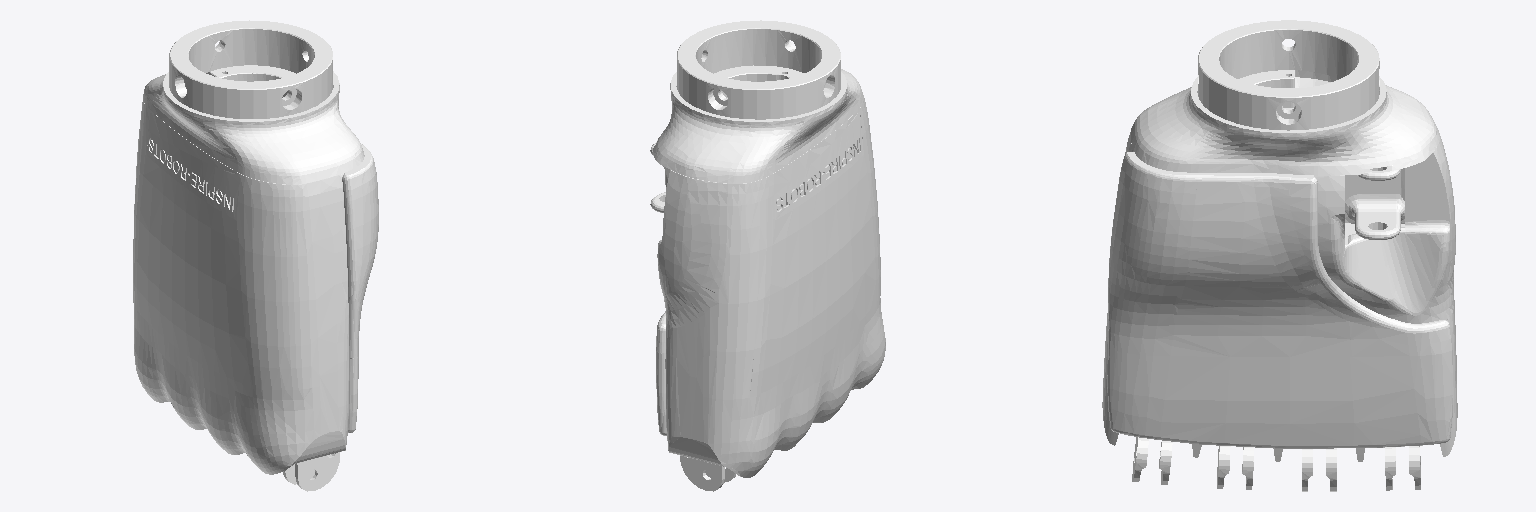
URDF robot description (inspire_hand_l):
<?xml version="1.0" encoding="utf-8"?>
<!-- This URDF was automatically created by SolidWorks to URDF Exporter! Originally created by [author] ([email redacted]) 
     Commit Version: 1.6.0-4-g7f85cfe  Build Version: 1.6.7995.38578
     For more information, please see http://wiki.ros.org/sw_urdf_exporter -->
<robot
  name="inspire_hand_l">
  
  <link name="world"/>
  <joint name="fixed" type="fixed">
  <origin
   xyz="0.5 0.5 0.001"
   rpy="3.14 0 -1.5707963" />
  <parent link="world"/>
  <child link="L_hand_base_link"/>
  </joint>
  
  <link
    name="L_hand_base_link">
    <inertial>
      <origin
        xyz="0 0 -0.05"
        rpy="0 0 0" />
      <mass
        value="0.14143" />
      <inertia
        ixx="7.7231E-05"
        ixy="-1.5968E-06"
        ixz="1.7694E-06"
        iyy="8.3835E-05"
        iyz="2.1995E-06"
        izz="0.0001234" />
    </inertial>
    <visual>
      <origin
        xyz="-0.078182894 -0.248685517 0.103057589"
        rpy="0 0 3.1415926" />
      <geometry>
        <mesh
          filename="package://inspire_hand_l/meshes/L_hand_base_link.STL" />
      </geometry>
      <material
        name="">
        <color
          rgba="1 1 1 1" />
      </material>
    </visual>
    <collision>
      <origin
        xyz="-0.078182894 -0.248685517 0.103057589"
        rpy="0 0 3.1415926" />
      <geometry>
        <mesh
          filename="package://inspire_hand_l/meshes/L_hand_base_link.STL" />
      </geometry>
    </collision>
  </link>
  <link
    name="L_thumb_proximal_base">
    <inertial>
      <origin
        xyz="-0.0048772 0.00668 -0.00044071"
        rpy="0 0 0" />
      <mass
        value="0.0018869" />
      <inertia
        ixx="5.2003E-08"
        ixy="4.8353E-09"
        ixz="6.6444E-09"
        iyy="6.7434E-08"
        iyz="-5.4476E-10"
        izz="8.5319E-08" />
    </inertial>
    <visual>
      <origin
        xyz="0 0 0"
        rpy="0 0.3 0" />
      <geometry>
        <mesh
          filename="package://inspire_hand_l/meshes/L_thumb_proximal_base.STL" />
      </geometry>
      <material
        name="">
        <color
          rgba="1 1 1 1" />
      </material>
    </visual>
    <collision>
      <origin
        xyz="0 0 0"
        rpy="0 0.3 0" />
      <geometry>
        <mesh
          filename="package://inspire_hand_l/meshes/L_thumb_proximal_base.STL" />
      </geometry>
    </collision>
  </link>
  <joint
    name="L_thumb_MCP_joint1"
    type="revolute">
    <origin
      xyz="0.020450106 -0.016955517 -0.055202411"
      rpy="-1.5708 0 2.9722026" />
    <parent
      link="L_hand_base_link" />
    <child
      link="L_thumb_proximal_base" />
    <axis
      xyz="0 1 0" />
    <limit
      lower="0"
      upper="1.1"
      effort="50"
      velocity="1" />
  </joint>
  <link
    name="L_thumb_proximal">
    <inertial>
      <origin
        xyz="-3.8578E-05 0.025335 0.0016982"
        rpy="0 0 0" />
      <mass
        value="0.0066101" />
      <inertia
        ixx="2.787E-06"
        ixy="1.3042E-10"
        ixz="1.3413E-09"
        iyy="8.9435E-07"
        iyz="2.1426E-07"
        izz="2.4105E-06" />
    </inertial>
    <visual>
      <origin
        xyz="0 0 0"
        rpy="0 0 0" />
      <geometry>
        <mesh
          filename="package://inspire_hand_l/meshes/L_thumb_proximal.STL" />
      </geometry>
      <material
        name="">
        <color
          rgba="1 1 1 1" />
      </material>
    </visual>
    <collision>
      <origin
        xyz="0 0 0"
        rpy="0 0 0" />
      <geometry>
        <mesh
          filename="package://inspire_hand_l/meshes/L_thumb_proximal.STL" />
      </geometry>
    </collision>
  </link>
  <joint
    name="L_thumb_MCP_joint2"
    type="revolute">
    <origin
      xyz="-0.0115 0.005 0.0034"
      rpy="0.5948037 -1.2708 0" />
    <parent
      link="L_thumb_proximal_base" />
    <child
      link="L_thumb_proximal" />
    <axis
      xyz="-1 0 0" />
    <limit
      lower="0"
      upper="0.5"
      effort="50"
      velocity="1" />
  </joint>
  <link
    name="L_thumb_intermediate">
    <inertial>
      <origin
        xyz="-1.7401E-07 0.0072516 0.0064286"
        rpy="0 0 0" />
      <mass
        value="0.0037844" />
      <inertia
        ixx="4.6532E-07"
        ixy="-9.1152E-13"
        ixz="-3.8682E-12"
        iyy="2.6856E-07"
        iyz="6.4144E-08"
        izz="4.252E-07" />
    </inertial>
    <visual>
      <origin
        xyz="0 0 0"
        rpy="0 0 0" />
      <geometry>
        <mesh
          filename="package://inspire_hand_l/meshes/L_thumb_intermediate.STL" />
      </geometry>
      <material
        name="">
        <color
          rgba="1 1 1 1" />
      </material>
    </visual>
    <collision>
      <origin
        xyz="0 0 0"
        rpy="0 0 0" />
      <geometry>
        <mesh
          filename="package://inspire_hand_l/meshes/L_thumb_intermediate.STL" />
      </geometry>
    </collision>
  </link>
  <joint
    name="L_thumb_PIP_joint"
    type="revolute">
    <origin
      xyz="0 0.055863 -0.0039241"
      rpy="0.038299 0 0" />
    <parent
      link="L_thumb_proximal" />
    <child
      link="L_thumb_intermediate" />
    <axis
      xyz="-1 0 0" />
    <limit
      lower="0"
      upper="1"
      effort="50"
      velocity="1" />
      <mimic 
        joint="L_thumb_MCP_joint2"
        multiplier="0.6"
        offset="0" />
  </joint>
  <link
    name="L_thumb_distal">
    <inertial>
      <origin
        xyz="-3.3076E-06 0.010511 0.00057861"
        rpy="0 0 0" />
      <mass
        value="0.003344" />
      <inertia
        ixx="2.0026E-07"
        ixy="-1.4157E-10"
        ixz="5.6213E-11"
        iyy="8.7108E-08"
        iyz="2.4414E-08"
        izz="1.8974E-07" />
    </inertial>
    <visual>
      <origin
        xyz="0 0 0"
        rpy="0 0 0" />
      <geometry>
        <mesh
          filename="package://inspire_hand_l/meshes/L_thumb_distal.STL" />
      </geometry>
      <material
        name="">
        <color
          rgba="1 1 1 1" />
      </material>
    </visual>
    <collision>
      <origin
        xyz="0 0 0"
        rpy="0 0 0" />
      <geometry>
        <mesh
          filename="package://inspire_hand_l/meshes/L_thumb_distal.STL" />
      </geometry>
    </collision>
  </link>
  <joint
    name="L_thumb_DIP_joint"
    type="revolute">
    <origin
      xyz="0 0.022558 0.0020717"
      rpy="0.011642 0 0" />
    <parent
      link="L_thumb_intermediate" />
    <child
      link="L_thumb_distal" />
    <axis
      xyz="-1 0 0" />
    <limit
      lower="0"
      upper="1.2"
      effort="50"
      velocity="1" />
      <mimic 
        joint="L_thumb_MCP_joint2"
        multiplier="0.8"
        offset="0" />
  </joint>
  <link
    name="L_index_proximal">
    <inertial>
      <origin
        xyz="0.0080456 0.011884 -0.0016957"
        rpy="0 0 0" />
      <mass
        value="0.0042405" />
      <inertia
        ixx="6.9402E-07"
        ixy="1.4654E-11"
        ixz="-2.3231E-12"
        iyy="2.3041E-07"
        iyz="9.1802E-08"
        izz="6.4342E-07" />
    </inertial>
    <visual>
      <origin
        xyz="0 0 0"
        rpy="0 0 0" />
      <geometry>
        <mesh
          filename="package://inspire_hand_l/meshes/L_index_proximal.STL" />
      </geometry>
      <material
        name="">
        <color
          rgba="1 1 1 1" />
      </material>
    </visual>
    <collision>
      <origin
        xyz="0 0 0"
        rpy="0 0 0" />
      <geometry>
        <mesh
          filename="package://inspire_hand_l/meshes/L_index_proximal.STL" />
      </geometry>
    </collision>
  </link>
  <joint
    name="L_index_MCP_joint"
    type="revolute">
    <origin
      xyz="0.018231106 0.000284483 -0.137012411"
      rpy="-1.3208 -0.034907 0" />
    <parent
      link="L_hand_base_link" />
    <child
      link="L_index_proximal" />
    <axis
      xyz="-1 0 0" />
    <limit
      lower="0"
      upper="1.7"
      effort="50"
      velocity="1" />
  </joint>
  <link
    name="L_index_distal">
    <inertial>
      <origin
        xyz="0.0063917 0.01959 -0.0019564"
        rpy="0 0 0" />
      <mass
        value="0.0045682" />
      <inertia
        ixx="7.8176E-07"
        ixy="-7.7162E-14"
        ixz="3.9272E-13"
        iyy="1.5634E-07"
        iyz="2.1006E-07"
        izz="7.0081E-07" />
    </inertial>
    <visual>
      <origin
        xyz="0 0 0"
        rpy="0 0 0" />
      <geometry>
        <mesh
          filename="package://inspire_hand_l/meshes/L_index_distal.STL" />
      </geometry>
      <material
        name="">
        <color
          rgba="1 1 1 1" />
      </material>
    </visual>
    <collision>
      <origin
        xyz="0 0 0"
        rpy="0 0 0" />
      <geometry>
        <mesh
          filename="package://inspire_hand_l/meshes/L_index_distal.STL" />
      </geometry>
    </collision>
  </link>
  <joint
    name="L_index_DIP_joint"
    type="revolute">
    <origin
      xyz="0.0016538 0.030445 -0.010275"
      rpy="-0.039748 0 0" />
    <parent
      link="L_index_proximal" />
    <child
      link="L_index_distal" />
    <axis
      xyz="-1 0 0" />
    <limit
      lower="0"
      upper="1.6"
      effort="50"
      velocity="1" />
      <mimic 
        joint="L_index_MCP_joint"
        multiplier="1"
        offset="0" />
  </joint>
  <link
    name="L_middle_proximal">
    <inertial>
      <origin
        xyz="0.0080653 0.011884 -0.0016957"
        rpy="0 0 0" />
      <mass
        value="0.0042405" />
      <inertia
        ixx="6.9402E-07"
        ixy="1.4338E-11"
        ixz="-2.3917E-12"
        iyy="2.3041E-07"
        iyz="9.1802E-08"
        izz="6.4342E-07" />
    </inertial>
    <visual>
      <origin
        xyz="0 0 0"
        rpy="0 0 0" />
      <geometry>
        <mesh
          filename="package://inspire_hand_l/meshes/L_middle_proximal.STL" />
      </geometry>
      <material
        name="">
        <color
          rgba="1 1 1 1" />
      </material>
    </visual>
    <collision>
      <origin
        xyz="0 0 0"
        rpy="0 0 0" />
      <geometry>
        <mesh
          filename="package://inspire_hand_l/meshes/L_middle_proximal.STL" />
      </geometry>
    </collision>
  </link>
  <joint
    name="L_middle_MCP_joint"
    type="revolute">
    <origin
      xyz="-0.001114894 0.000284483 -0.137012411"
      rpy="-1.3208 0 0" />
    <parent
      link="L_hand_base_link" />
    <child
      link="L_middle_proximal" />
    <axis
      xyz="-1 0 0" />
    <limit
      lower="0"
      upper="1.68"
      effort="50"
      velocity="1" />
  </joint>
  <link
    name="L_middle_distal">
    <inertial>
      <origin
        xyz="0.0063955 0.020807 -0.0018039"
        rpy="0 0 0" />
      <mass
        value="0.0050397" />
      <inertia
        ixx="9.8385E-07"
        ixy="-4.0683E-12"
        ixz="-1.7233E-12"
        iyy="1.7328E-07"
        iyz="2.5594E-07"
        izz="8.9141E-07" />
    </inertial>
    <visual>
      <origin
        xyz="0 0 0"
        rpy="0 0 0" />
      <geometry>
        <mesh
          filename="package://inspire_hand_l/meshes/L_middle_distal.STL" />
      </geometry>
      <material
        name="">
        <color
          rgba="1 1 1 1" />
      </material>
    </visual>
    <collision>
      <origin
        xyz="0 0 0"
        rpy="0 0 0" />
      <geometry>
        <mesh
          filename="package://inspire_hand_l/meshes/L_middle_distal.STL" />
      </geometry>
    </collision>
  </link>
  <joint
    name="L_middle_DIP_joint"
    type="revolute">
    <origin
      xyz="0.0016698 0.030445 -0.010275"
      rpy="-0.071413 0 0" />
    <parent
      link="L_middle_proximal" />
    <child
      link="L_middle_distal" />
    <axis
      xyz="-1 0 0" />
    <limit
      lower="0"
      upper="1.6"
      effort="50"
      velocity="1" />
      <mimic 
        joint="L_middle_MCP_joint"
        multiplier="1"
        offset="0" />
  </joint>
  <link
    name="L_ring_proximal">
    <inertial>
      <origin
        xyz="0.010821 0.011884 -0.0016957"
        rpy="0 0 0" />
      <mass
        value="0.0042405" />
      <inertia
        ixx="6.9402E-07"
        ixy="1.3923E-11"
        ixz="-2.5637E-12"
        iyy="2.3041E-07"
        iyz="9.1802E-08"
        izz="6.4342E-07" />
    </inertial>
    <visual>
      <origin
        xyz="0 0 0"
        rpy="0 0 0" />
      <geometry>
        <mesh
          filename="package://inspire_hand_l/meshes/L_ring_proximal.STL" />
      </geometry>
      <material
        name="">
        <color
          rgba="1 1 1 1" />
      </material>
    </visual>
    <collision>
      <origin
        xyz="0 0 0"
        rpy="0 0 0" />
      <geometry>
        <mesh
          filename="package://inspire_hand_l/meshes/L_ring_proximal.STL" />
      </geometry>
    </collision>
  </link>
  <joint
    name="L_ring_MCP_joint"
    type="revolute">
    <origin
      xyz="-0.023084894 0.000284483 -0.136032411"
      rpy="-1.3208 0.05236 0" />
    <parent
      link="L_hand_base_link" />
    <child
      link="L_ring_proximal" />
    <axis
      xyz="-1 0 0" />
    <limit
      lower="0"
      upper="1.7"
      effort="50"
      velocity="1" />
  </joint>
  <link
    name="L_ring_distal">
    <inertial>
      <origin
        xyz="0.009285 0.019591 -0.0019565"
        rpy="0 0 0" />
      <mass
        value="0.0045682" />
      <inertia
        ixx="7.8176E-07"
        ixy="4.4486E-13"
        ixz="-6.071E-14"
        iyy="1.5634E-07"
        iyz="2.1006E-07"
        izz="7.0081E-07" />
    </inertial>
    <visual>
      <origin
        xyz="0 0 0"
        rpy="0 0 0" />
      <geometry>
        <mesh
          filename="package://inspire_hand_l/meshes/L_ring_distal.STL" />
      </geometry>
      <material
        name="">
        <color
          rgba="1 1 1 1" />
      </material>
    </visual>
    <collision>
      <origin
        xyz="0 0 0"
        rpy="0 0 0" />
      <geometry>
        <mesh
          filename="package://inspire_hand_l/meshes/L_ring_distal.STL" />
      </geometry>
    </collision>
  </link>
  <joint
    name="L_ring_DIP_joint"
    type="revolute">
    <origin
      xyz="0.0015355 0.030445 -0.010275"
      rpy="-0.039748 0 0" />
    <parent
      link="L_ring_proximal" />
    <child
      link="L_ring_distal" />
    <axis
      xyz="-1 0 0" />
    <limit
      lower="0"
      upper="1.6"
      effort="50"
      velocity="1" />
      <mimic 
        joint="L_ring_MCP_joint"
        multiplier="1"
        offset="0" />
  </joint>
  <link
    name="L_pinky_proximal">
    <inertial>
      <origin
        xyz="0.013546 0.011884 -0.0016957"
        rpy="0 0 0" />
      <mass
        value="0.0042405" />
      <inertia
        ixx="6.9402E-07"
        ixy="1.4088E-11"
        ixz="-2.5363E-12"
        iyy="2.3041E-07"
        iyz="9.1802E-08"
        izz="6.4342E-07" />
    </inertial>
    <visual>
      <origin
        xyz="0 0 0"
        rpy="0 0 0" />
      <geometry>
        <mesh
          filename="package://inspire_hand_l/meshes/L_pinky_proximal.STL" />
      </geometry>
      <material
        name="">
        <color
          rgba="1 1 1 1" />
      </material>
    </visual>
    <collision>
      <origin
        xyz="0 0 0"
        rpy="0 0 0" />
      <geometry>
        <mesh
          filename="package://inspire_hand_l/meshes/L_pinky_proximal.STL" />
      </geometry>
    </collision>
  </link>
  <joint
    name="L_pinky_MCP_joint"
    type="revolute">
    <origin
      xyz="-0.044926894 0.000284483 -0.133672411"
      rpy="-1.3208 0.10472 0" />
    <parent
      link="L_hand_base_link" />
    <child
      link="L_pinky_proximal" />
    <axis
      xyz="-1 0 0" />
    <limit
      lower="0"
      upper="1.7"
      effort="50"
      velocity="1" />
  </joint>
  <link
    name="L_pinky_distal">
    <inertial>
      <origin
        xyz="0.013546 0.016245 -0.0022219"
        rpy="0 0 0" />
      <mass
        value="0.0036036" />
      <inertia
        ixx="4.4881E-07"
        ixy="-2.6544E-12"
        ixz="2.0643E-12"
        iyy="1.2252E-07"
        iyz="1.3507E-07"
        izz="3.8703E-07" />
    </inertial>
    <visual>
      <origin
        xyz="0 0 0"
        rpy="0 0 0" />
      <geometry>
        <mesh
          filename="package://inspire_hand_l/meshes/L_pinky_distal.STL" />
      </geometry>
      <material
        name="">
        <color
          rgba="1 1 1 1" />
      </material>
    </visual>
    <collision>
      <origin
        xyz="0 0 0"
        rpy="0 0 0" />
      <geometry>
        <mesh
          filename="package://inspire_hand_l/meshes/L_pinky_distal.STL" />
      </geometry>
    </collision>
  </link>
  <joint
    name="L_pinky_DIP_joint"
    type="revolute">
    <origin
      xyz="0 0.030445 -0.010275"
      rpy="0.037691 0 0" />
    <parent
      link="L_pinky_proximal" />
    <child
      link="L_pinky_distal" />
    <axis
      xyz="-1 0 0" />
    <limit
      lower="0"
      upper="1.6"
      effort="50"
      velocity="1" />
      <mimic 
        joint="L_pinky_MCP_joint"
        multiplier="1"
        offset="0" />
  </joint>
</robot>

--- Facts derived from the render (not from the file) ---
Views: 3 orthographic renders of the robot side by side, from view 1: azimuth 30°, elevation 25°; view 2: azimuth 150°, elevation 25°; view 3: azimuth 270°, elevation 25°.
Robot: inspire_hand_l — 14 links, 13 joints (12 revolute, 1 fixed); root link world; default pose: all joints at 0.
Links seen in each view (by area): view 1: L_hand_base_link; view 2: L_hand_base_link; view 3: L_hand_base_link.
Link boxes in pixels (x1,y1,x2,y2): L_hand_base_link: [133, 20, 378, 491]; L_hand_base_link: [650, 20, 885, 491]; L_hand_base_link: [1102, 20, 1457, 491].
Size in the robot's own frame: 0.0455 by 0.0815 by 0.11 metres.
1 mesh visuals loaded from 13 distinct referenced files (1 binary STL); not drawn: 12 (reference not matched to a file when rendering).